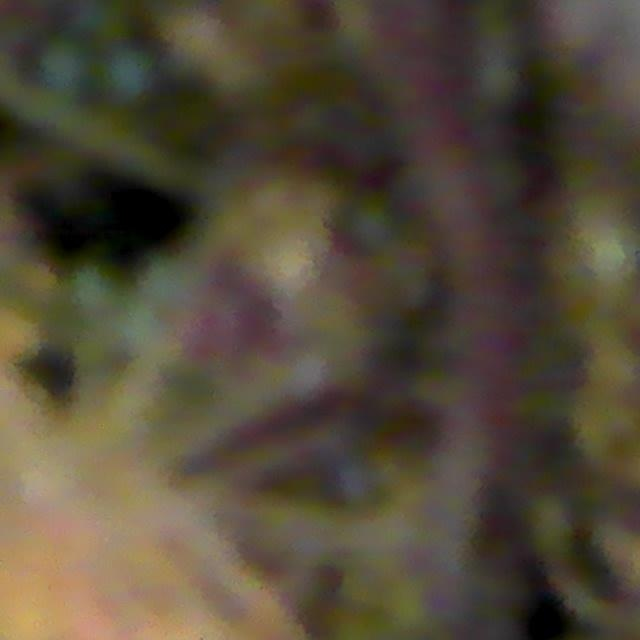SeaGrape: (341, 196, 399, 255), (36, 37, 93, 96), (99, 45, 155, 102)
